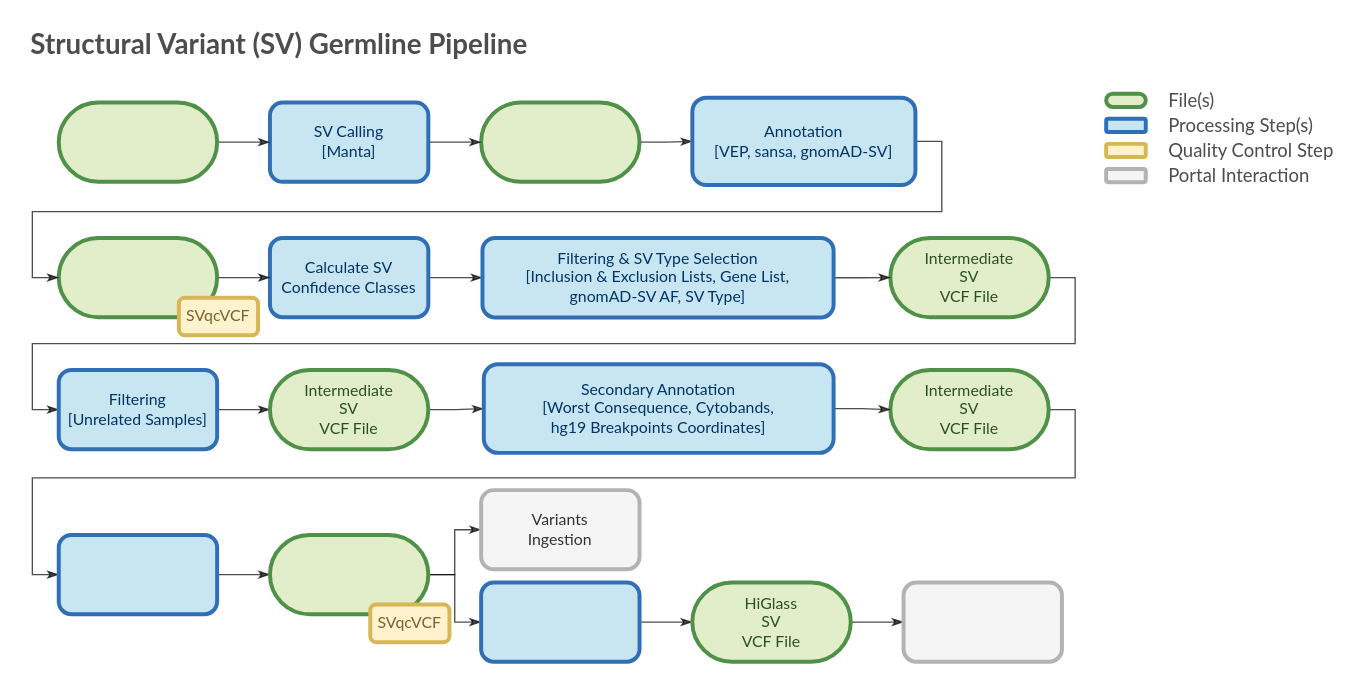
This 1366x686 diagram has some shape labels left out. The centre of each missing label's shape, as x and y in pixels:
Analysis-ready BAM Files: point 137,141
Annotated SV VCF File: point 137,277
Filtering [SV Length]: point 137,574
Final SV VFC File: point 348,574
SV VCF File: point 559,141
VCF Cleaning for HiGlass: point 559,621
Visualization: point 982,621
